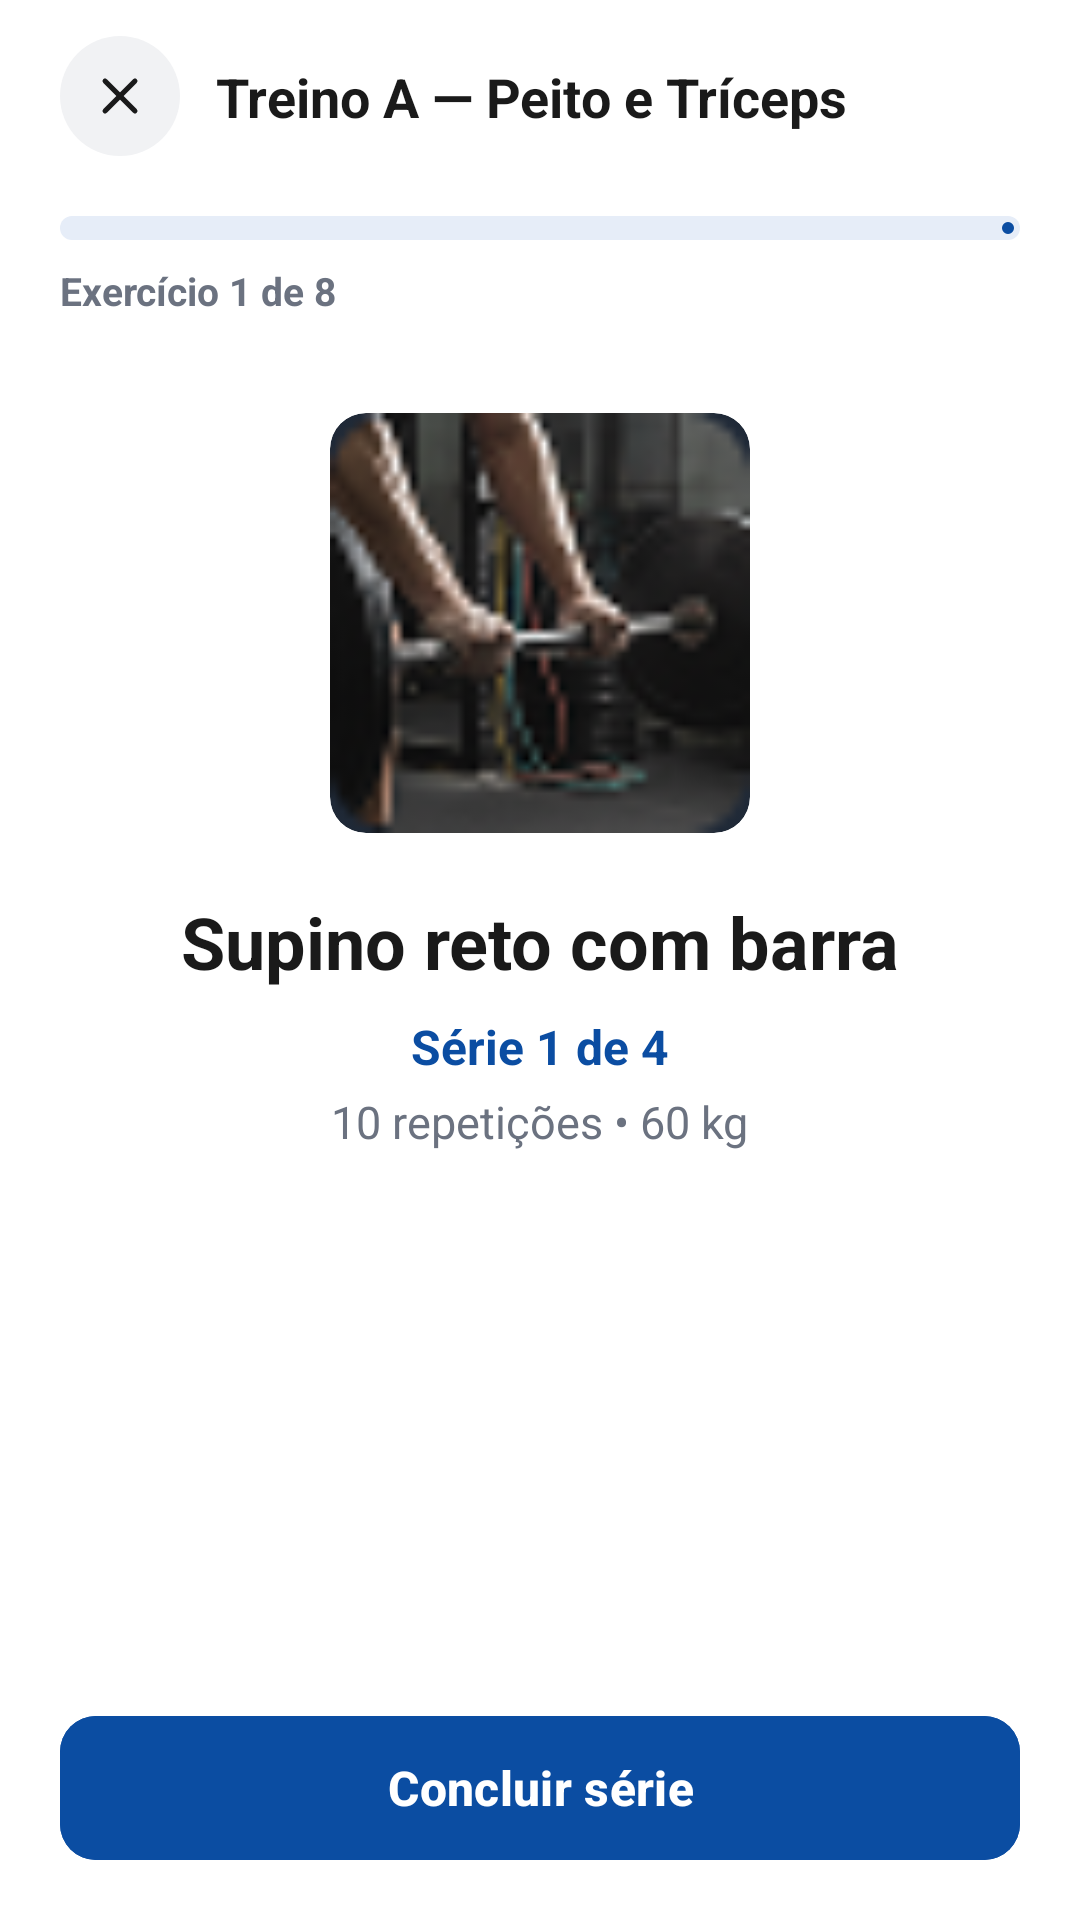

Screen size 1080px×1920px. Icon name, then its center in pixels as (x=x, y=y):
Encerrar treino: (x=120, y=96)
